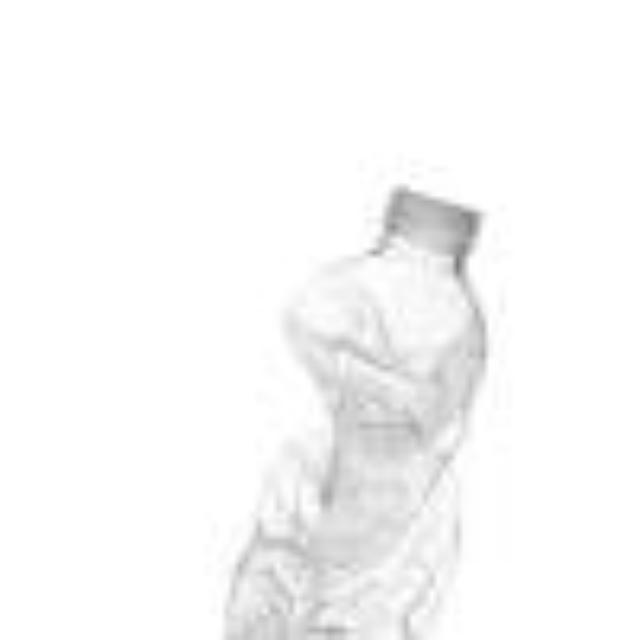trash: (211, 174, 514, 640)
